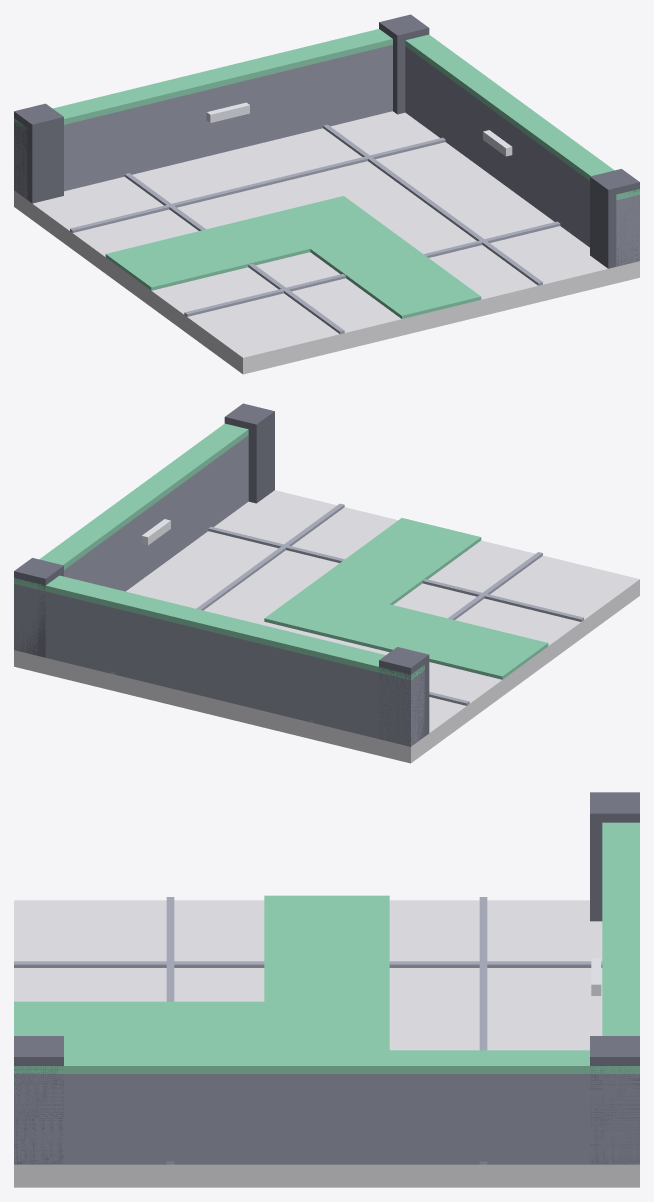
File: walkway-1x1-bend.glb
3 renders of one model, top to bottom at view 1: azimuth 30°, elevation 25°; view 2: azimuth 150°, elevation 25°; view 3: azimuth 270°, elevation 25°, orthographic. The views are drawn at different scales.
Visible parts, largest first — view 1: walkway-1x1-bend; view 2: walkway-1x1-bend; view 3: walkway-1x1-bend.
Part boxes in pixels (left/top/right/bottom): walkway-1x1-bend: left=14, top=14, right=639, bottom=374; walkway-1x1-bend: left=14, top=403, right=639, bottom=763; walkway-1x1-bend: left=14, top=792, right=639, bottom=1187.
Bounding box in the file's own units: 1 × 0.23 × 1.
Materials: 1 (1 with a texture image).
